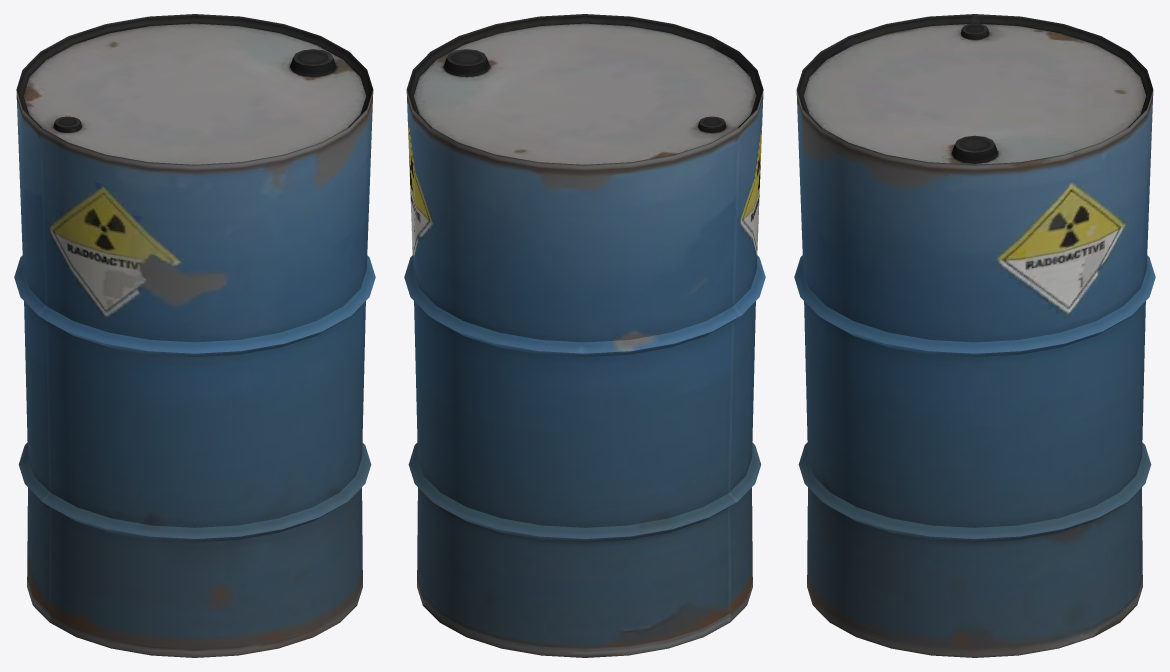
3 views of the same model, side by side, from view 1: azimuth 30°, elevation 25°; view 2: azimuth 150°, elevation 25°; view 3: azimuth 270°, elevation 25° (orthographic).
Visible parts, largest first — view 1: body0_model0_lod0_mesh0; view 2: body0_model0_lod0_mesh0; view 3: body0_model0_lod0_mesh0.
Boxes of the visible parts, <box> form: body0_model0_lod0_mesh0: <box>14,14,375,657</box>; body0_model0_lod0_mesh0: <box>404,14,765,657</box>; body0_model0_lod0_mesh0: <box>794,14,1155,657</box>.
Bounding box in the file's own units: 52.68 × 80.45 × 52.68.
Materials: 1 (1 with a texture image).
